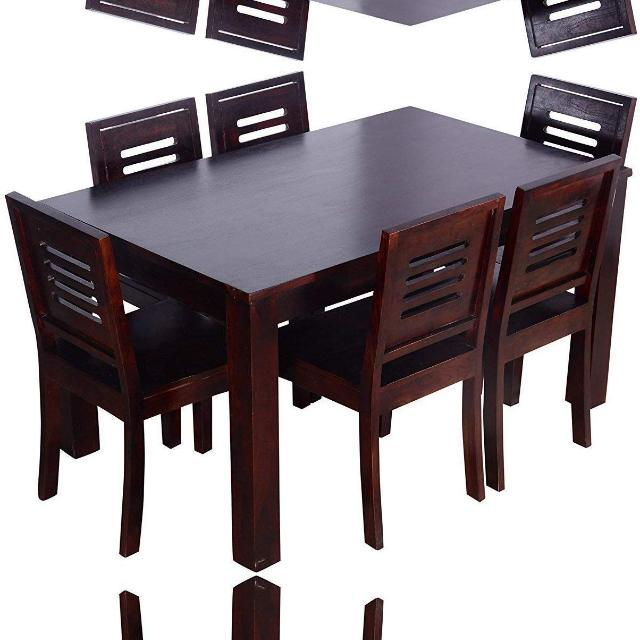obstacle: (79, 92, 613, 514), (2, 176, 236, 574), (361, 210, 513, 514), (79, 0, 613, 38), (1, 572, 236, 640), (79, 631, 613, 640), (361, 631, 513, 640)
